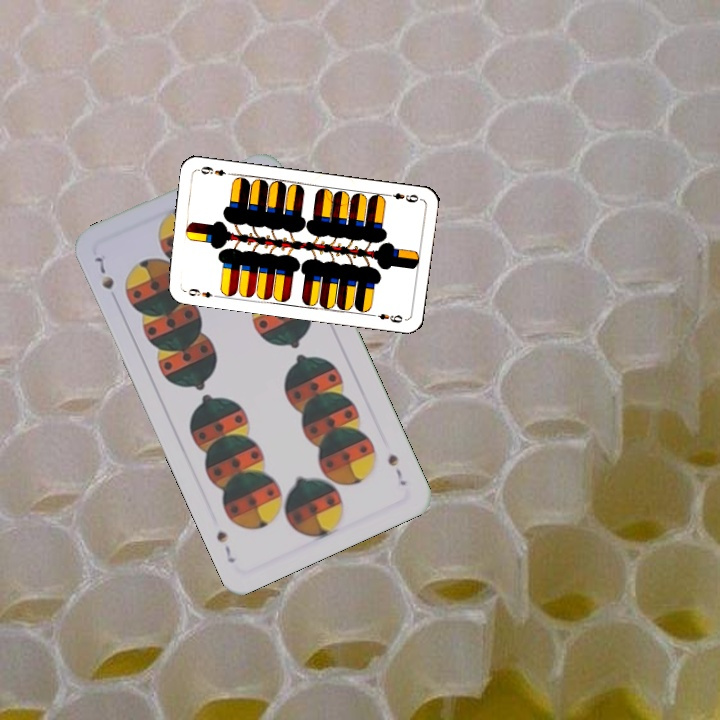E9: (179, 284, 220, 301), (382, 189, 421, 205)
S7: (90, 252, 117, 292), (384, 450, 409, 489)
